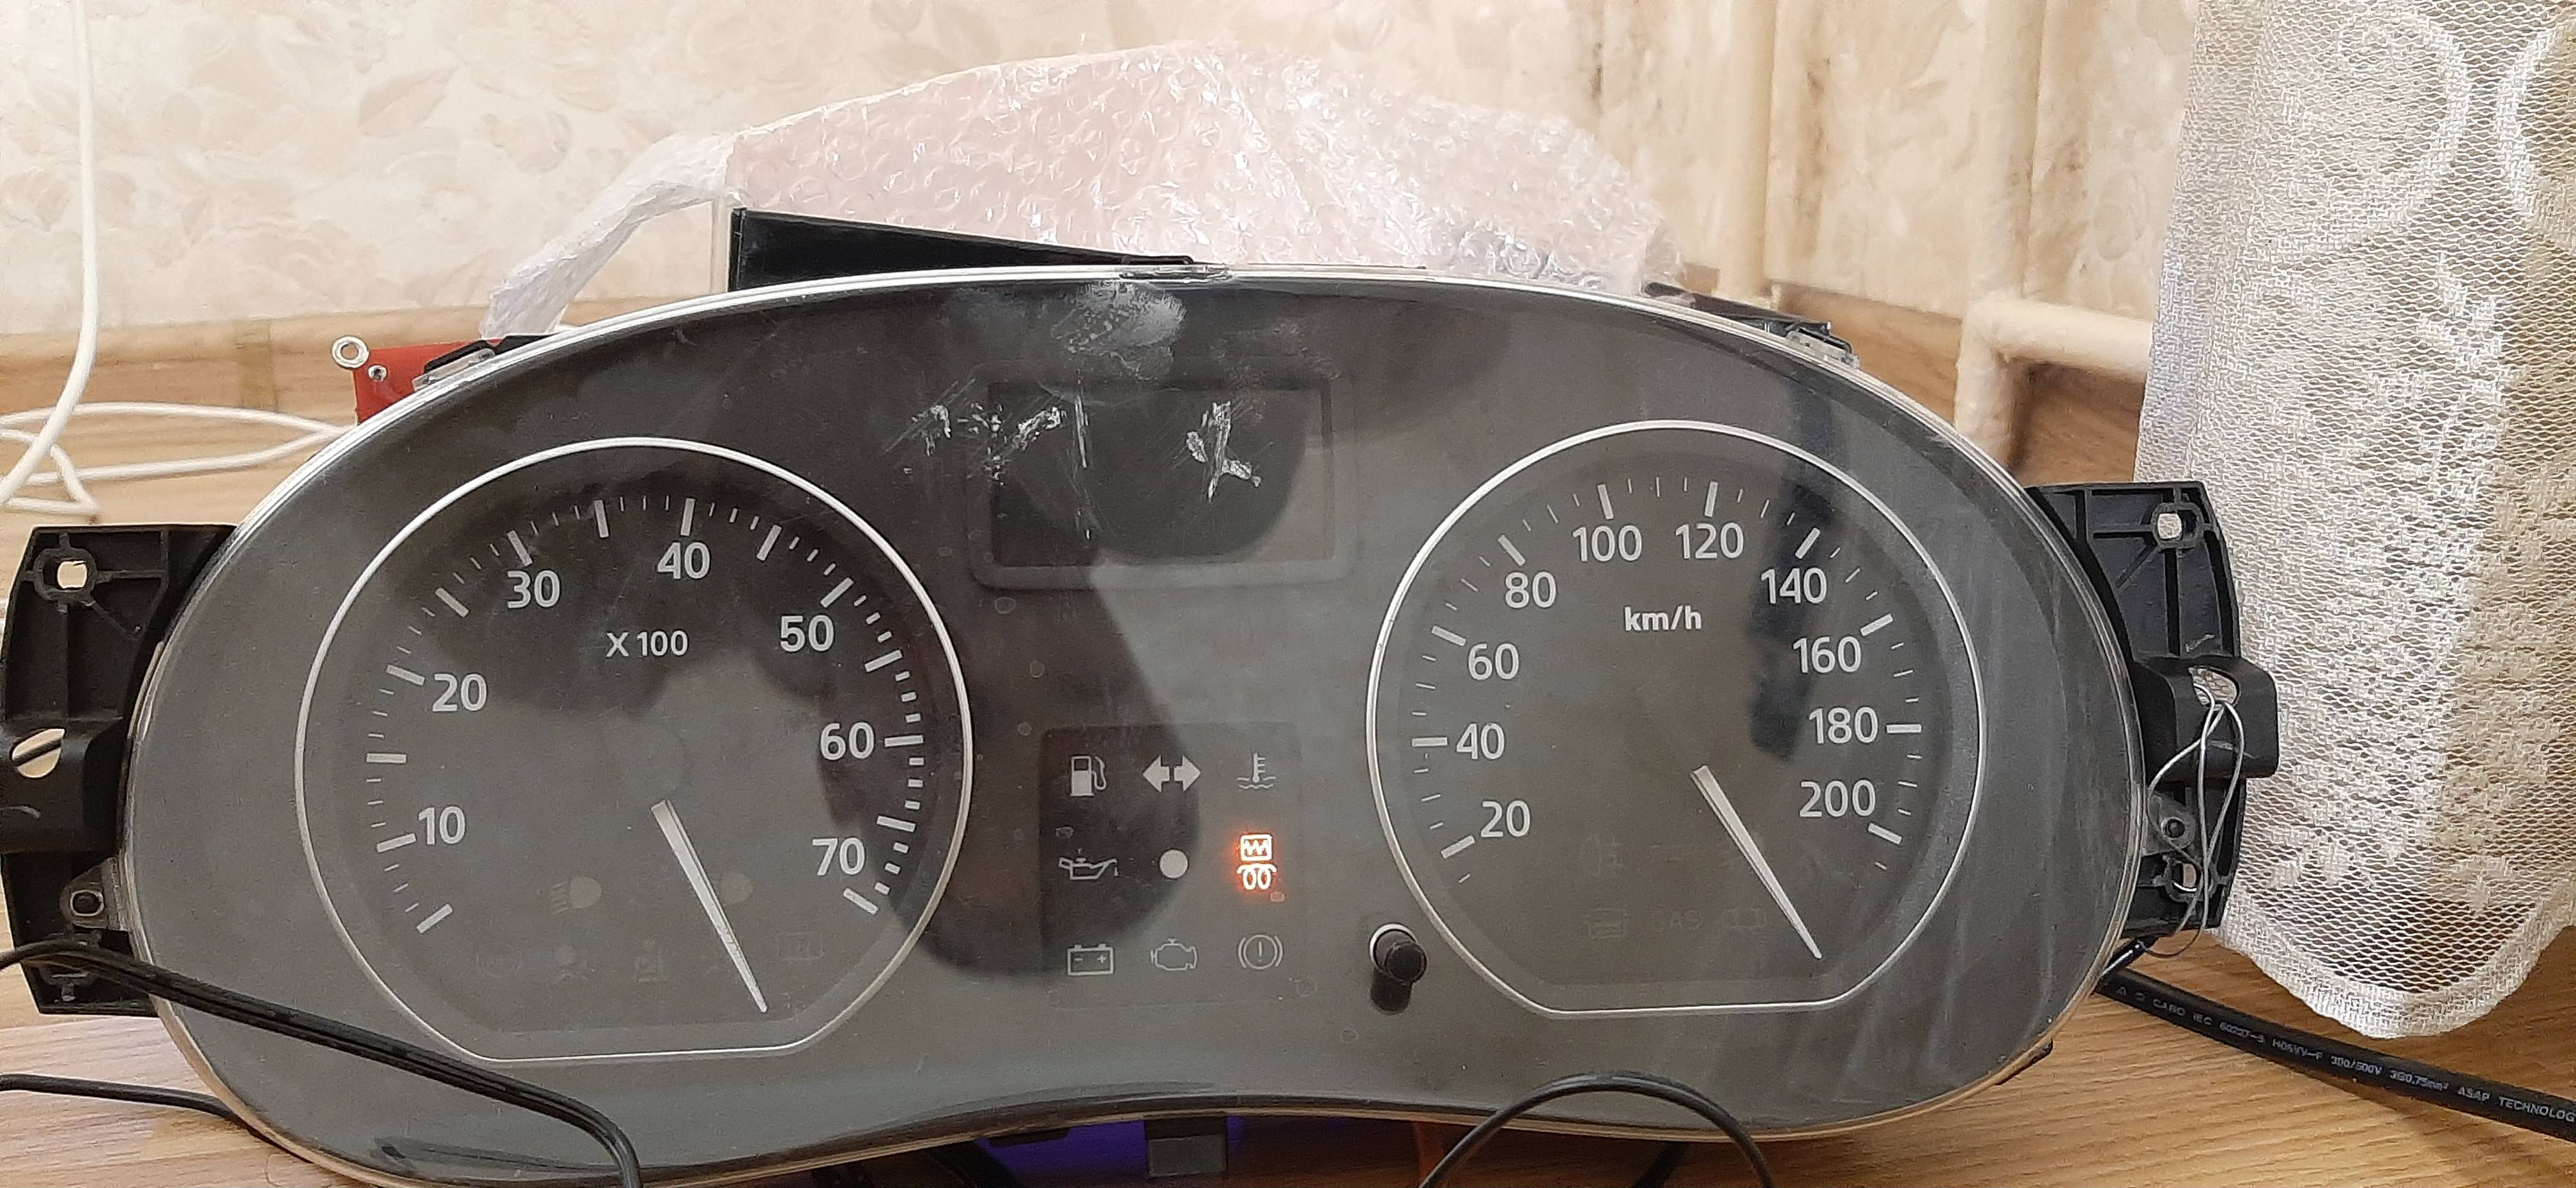diesel4: (1235, 833, 1278, 892)
